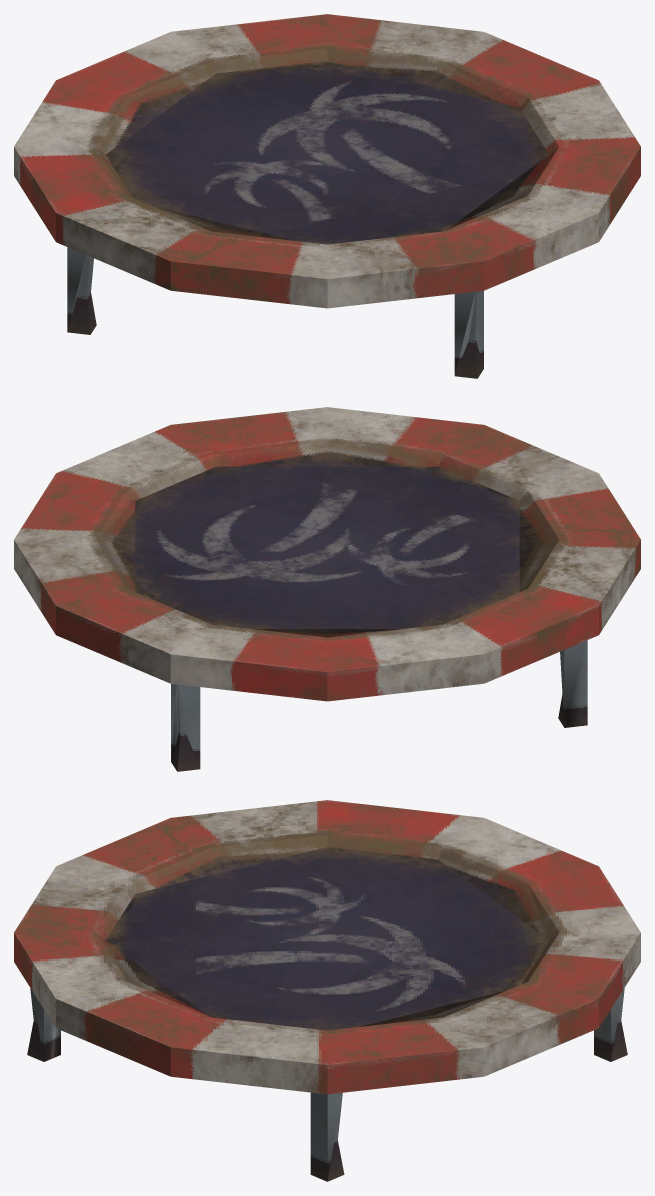
The model's file is item_trampoline.glb.
The picture shows the model from 3 angles, top to bottom: view 1: azimuth 30°, elevation 25°; view 2: azimuth 150°, elevation 25°; view 3: azimuth 270°, elevation 25°; orthographic projection.
Visible parts, largest first — view 1: trampoline; view 2: trampoline; view 3: trampoline.
Part boxes in pixels (left/top/right/bottom): trampoline: left=14, top=14, right=640, bottom=378; trampoline: left=14, top=407, right=640, bottom=771; trampoline: left=14, top=800, right=640, bottom=1181.
Bounding box in the file's own units: 1.93 × 0.4161 × 1.93.
1 material, 1 textured.
